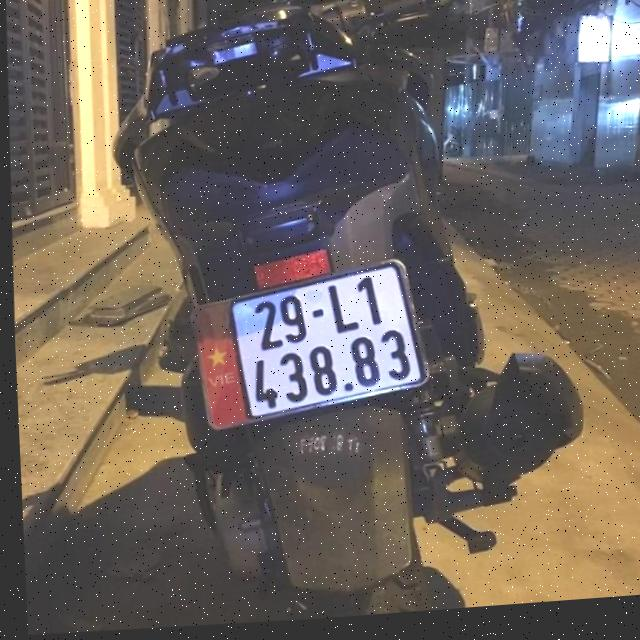motorcycle: (99, 0, 517, 584)
plate: (217, 253, 423, 424)
